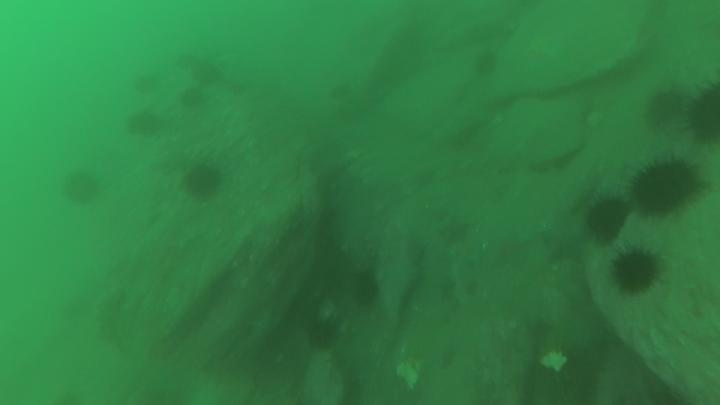echinus: (627, 150, 703, 216), (588, 186, 636, 244), (607, 241, 661, 292), (681, 85, 720, 146), (180, 163, 227, 203), (58, 171, 100, 207), (306, 311, 340, 355), (122, 110, 165, 139), (351, 273, 379, 309), (189, 60, 222, 90), (473, 44, 500, 78), (177, 84, 204, 113)
